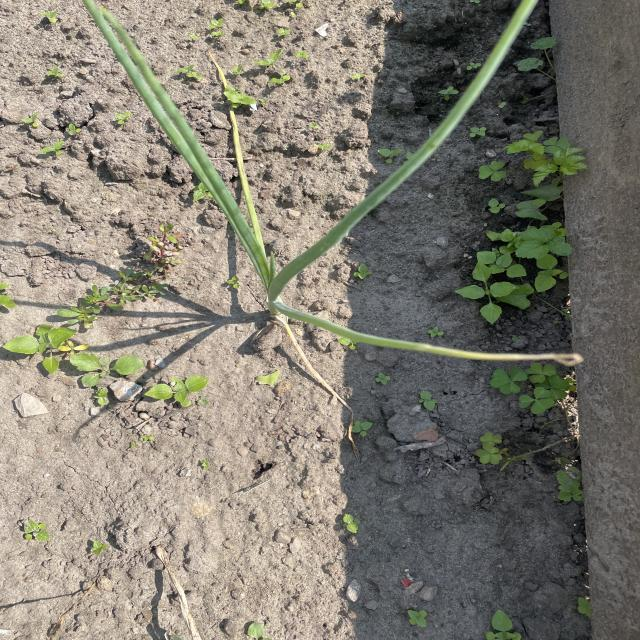Onion: (102, 33, 518, 373)
weed: (469, 122, 583, 320), (18, 323, 206, 409), (494, 360, 573, 429)
